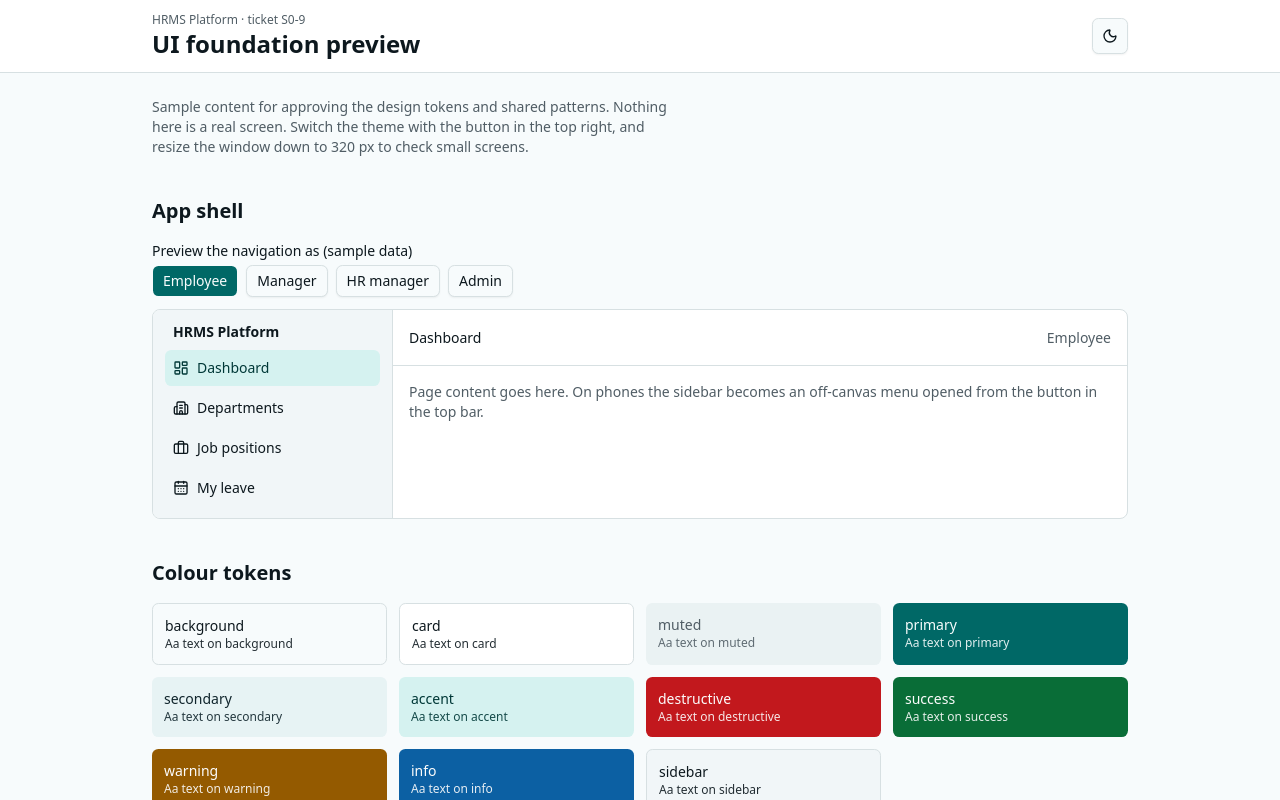
Scenario: FoundationPreview › switches the theme from the top bar
Click the button named "Switch to dark theme": (1110, 36) [1092,18,1128,54]
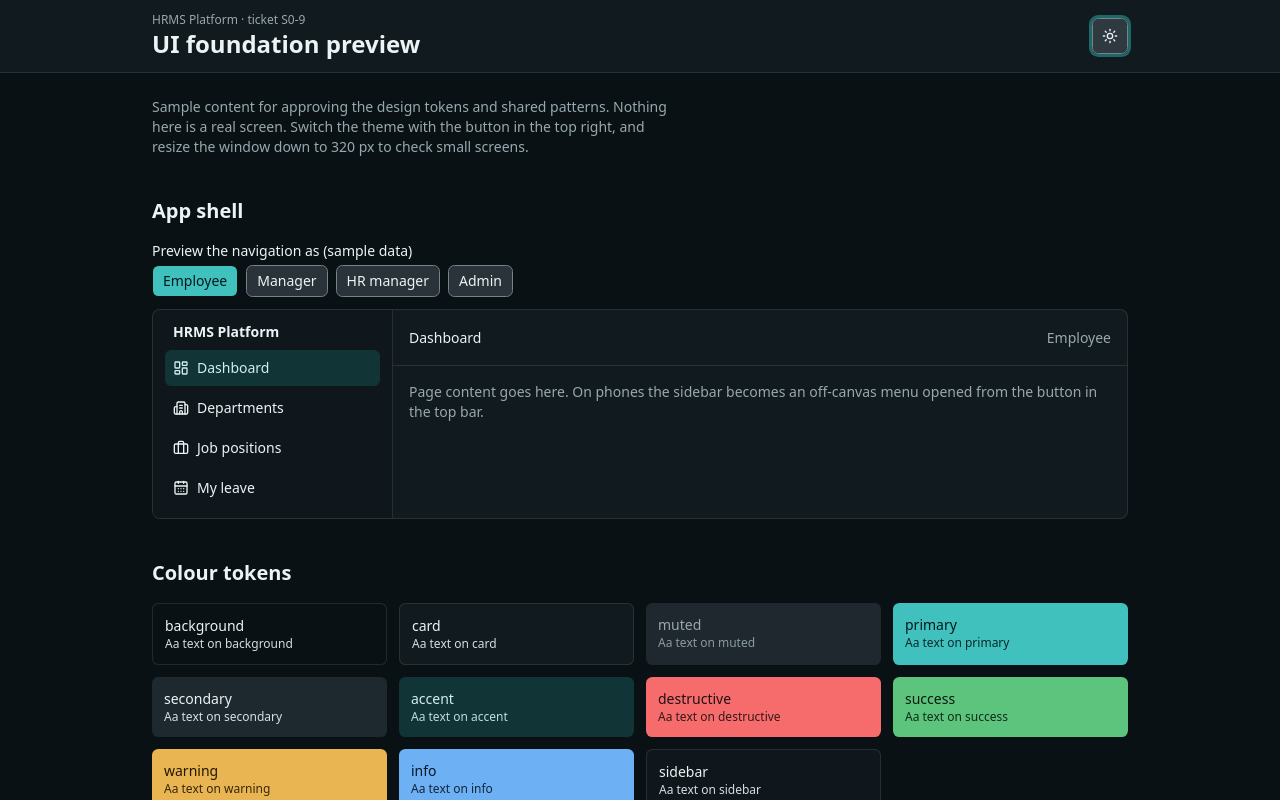
Expected: the button named "Switch to light theme" is shown, [1092,18,1128,54]
